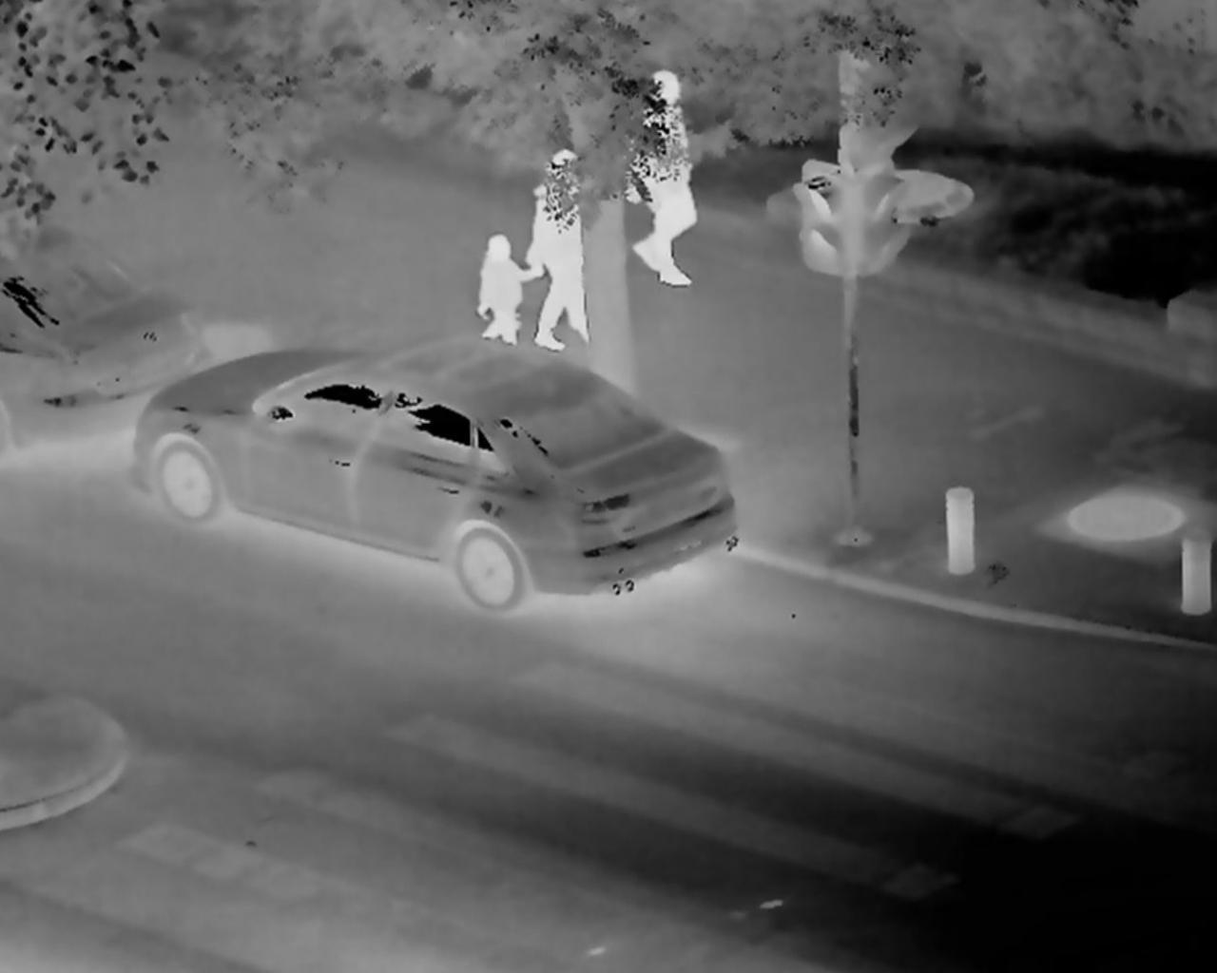person: (626, 72, 694, 301), (533, 145, 601, 348), (476, 236, 524, 344)
